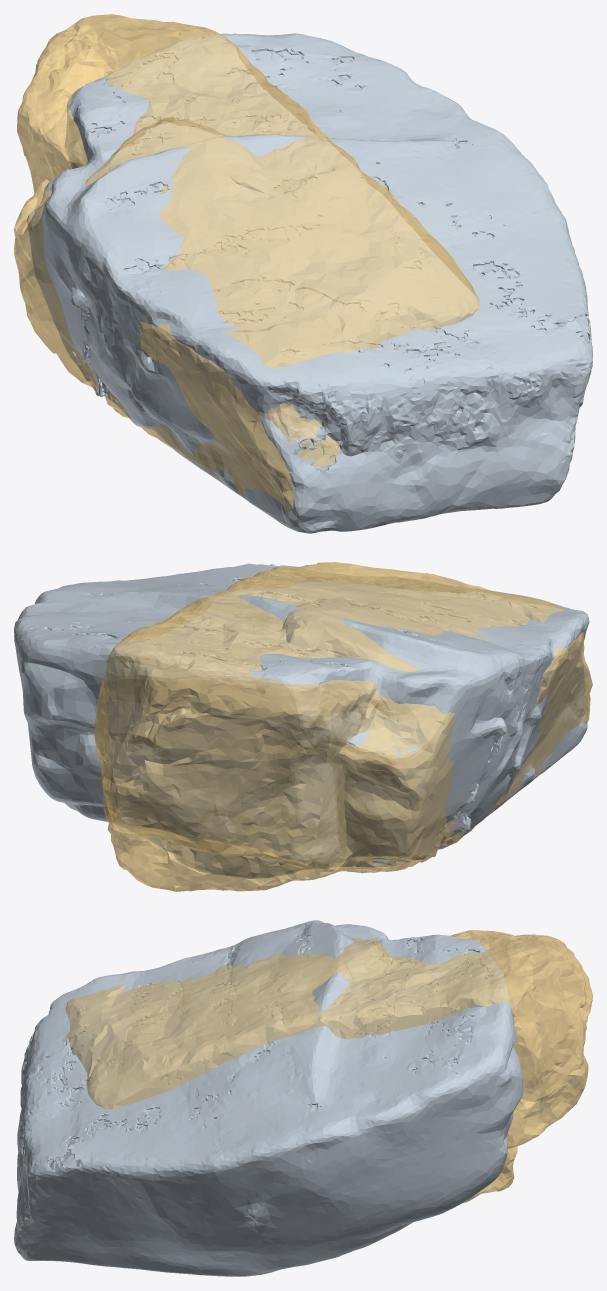
3 views of the same model, one above another, from view 1: azimuth 30°, elevation 25°; view 2: azimuth 150°, elevation 25°; view 3: azimuth 270°, elevation 25° (orthographic). The views are drawn at different scales.
Visible parts, largest first — view 1: imagination, truth; view 2: imagination, truth; view 3: imagination, truth.
Part boxes in pixels (box(x1,y1,x2,y2)): imagination: box(27, 33, 592, 533); truth: box(14, 14, 480, 512); imagination: box(14, 563, 589, 878); truth: box(94, 562, 592, 891); imagination: box(14, 920, 523, 1276); truth: box(65, 930, 592, 1202).
Bounding box in the file's own units: 0.9938 × 0.6104 × 1.27.
